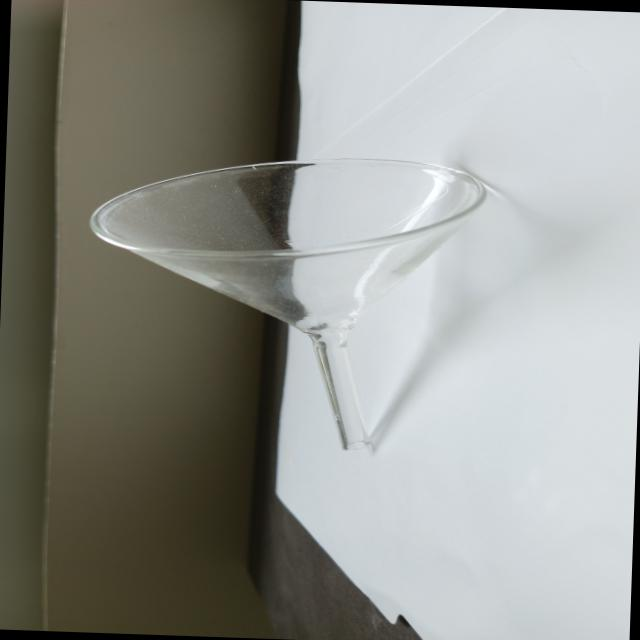funnel: (56, 144, 488, 462)
